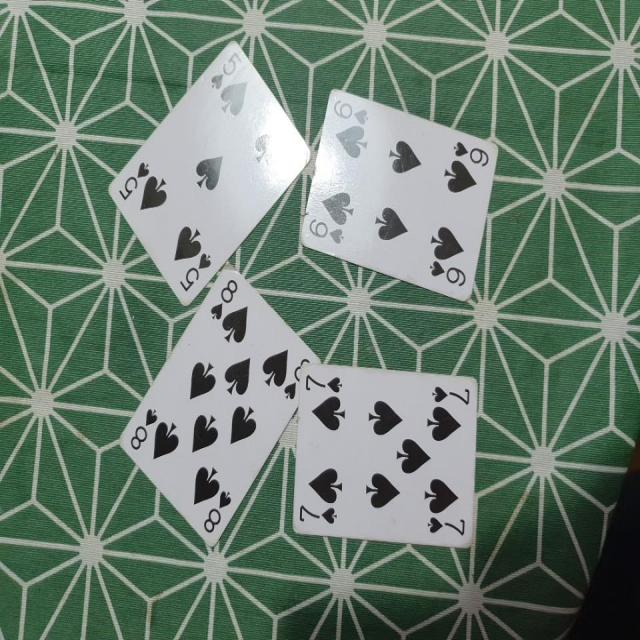5 Spades: (93, 39, 317, 305)
6 Spades: (290, 78, 509, 324)
7 Spades: (294, 366, 486, 548)
8 Spades: (115, 269, 325, 552)
